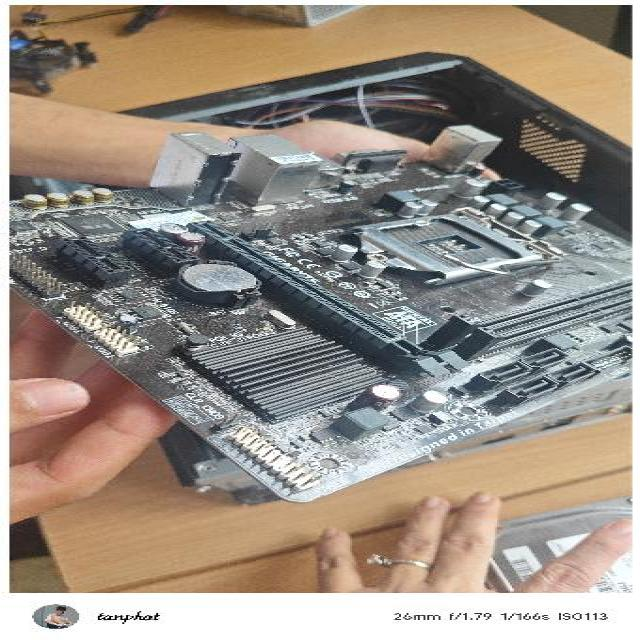Mainboard: (9, 107, 632, 506)
